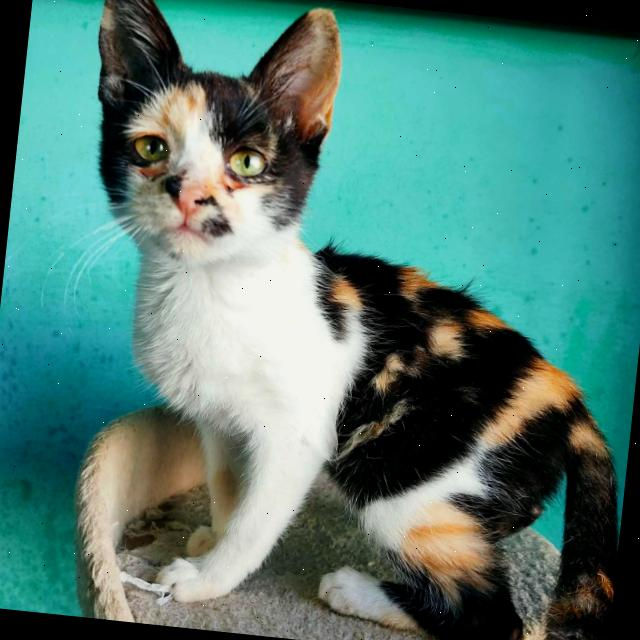calico_cat: (50, 0, 361, 315)
